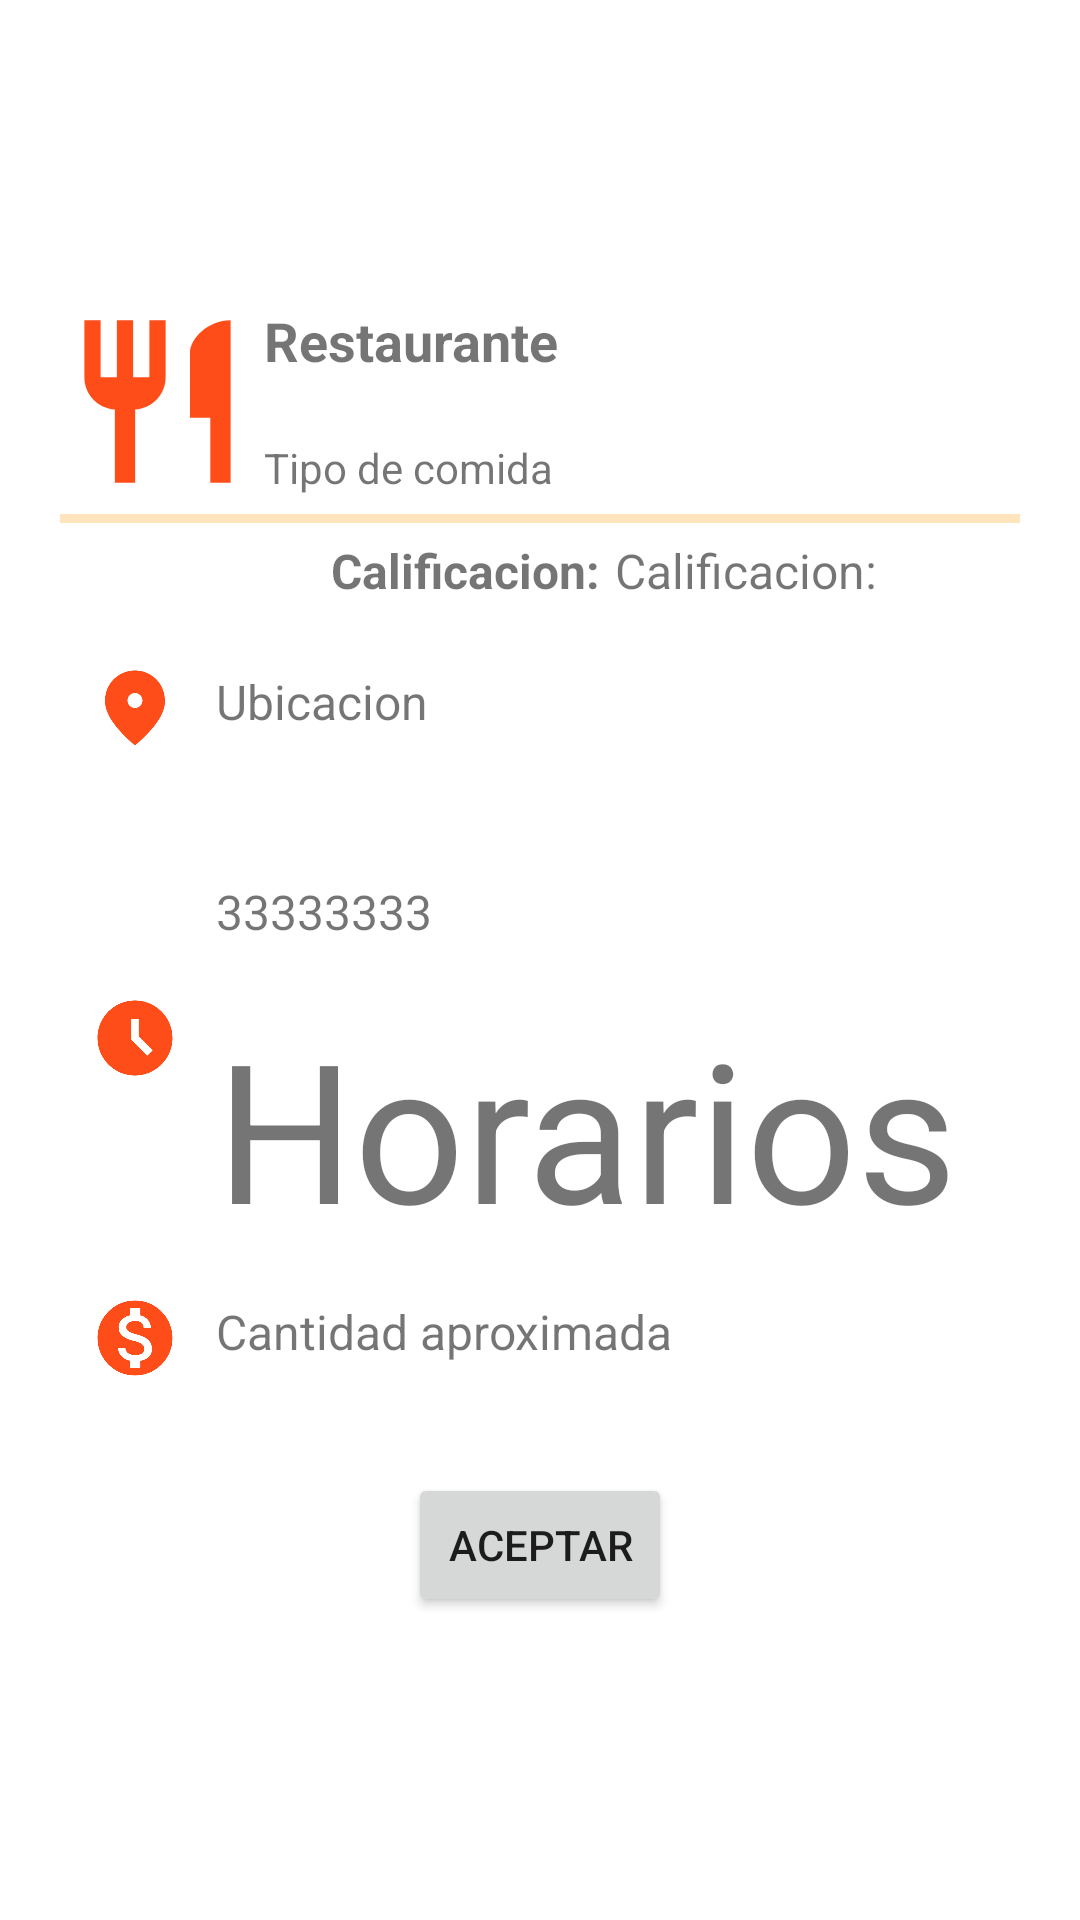

Where icons sit on this 1080px×1920px app screen, as (x1, y1, x2, y2):
access time: (97, 1000, 173, 1076)
Icono de gastos aproximados: (97, 1300, 173, 1376)
